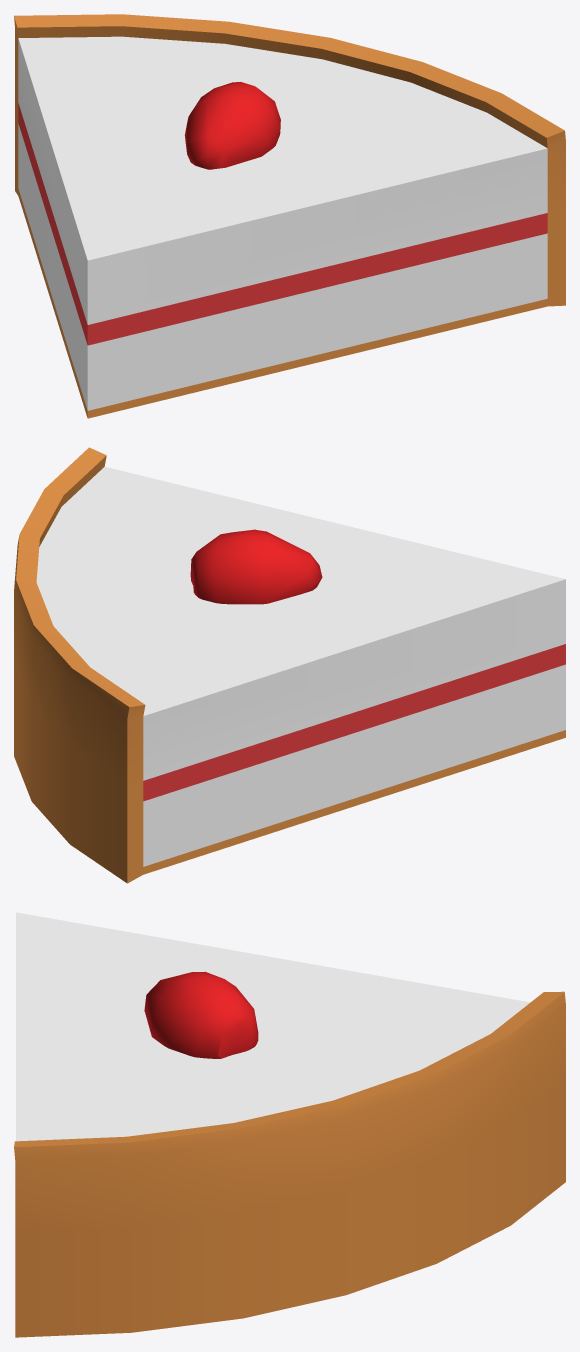
Rendered from Cake.fbx.
3 views of the same model, one above another, from view 1: azimuth 30°, elevation 25°; view 2: azimuth 150°, elevation 25°; view 3: azimuth 270°, elevation 25° (orthographic). The views are drawn at different scales.
Parts seen in each view (by area): view 1: Cake, Strawberry; view 2: Cake, Strawberry; view 3: Cake, Strawberry.
Boxes of the visible parts, x1,y1,x2,y2 form: Cake: (14,14,565,418); Strawberry: (184,82,280,169); Cake: (14,447,565,883); Strawberry: (190,529,322,604); Cake: (14,912,565,1337); Strawberry: (144,971,258,1058).
Size of the model in its own units: 156 by 66.57 by 145.
